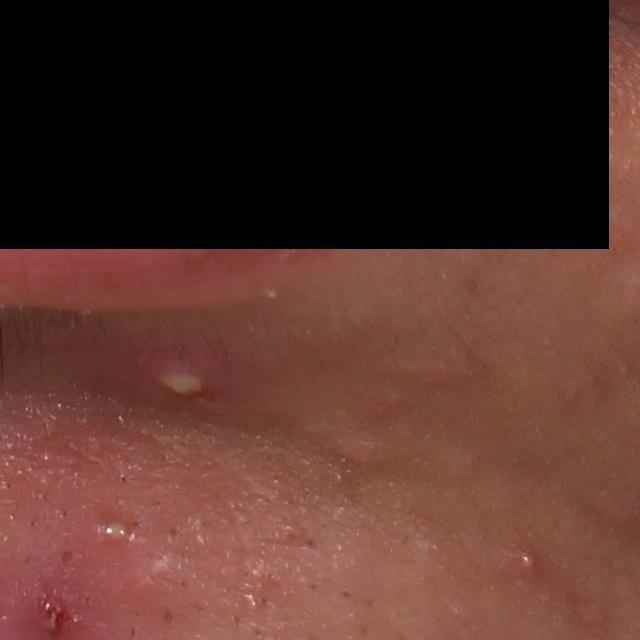hypertrophic_scar: (376, 347, 496, 396), (318, 428, 408, 472)
pustule: (104, 339, 240, 421), (507, 544, 542, 578), (97, 516, 132, 548)
